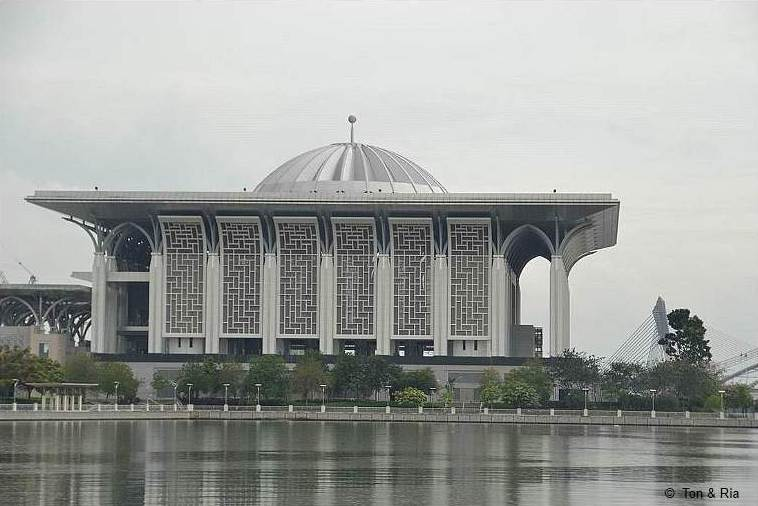Mosque: (20, 132, 602, 367)
